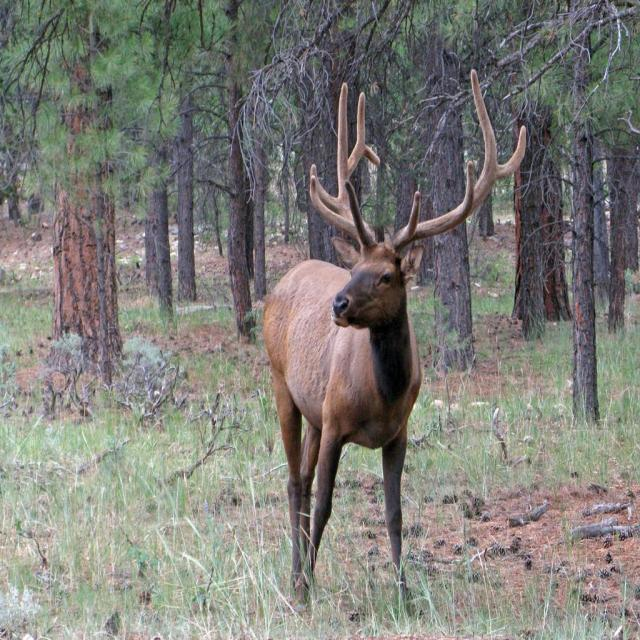Deer: (259, 70, 527, 607)
